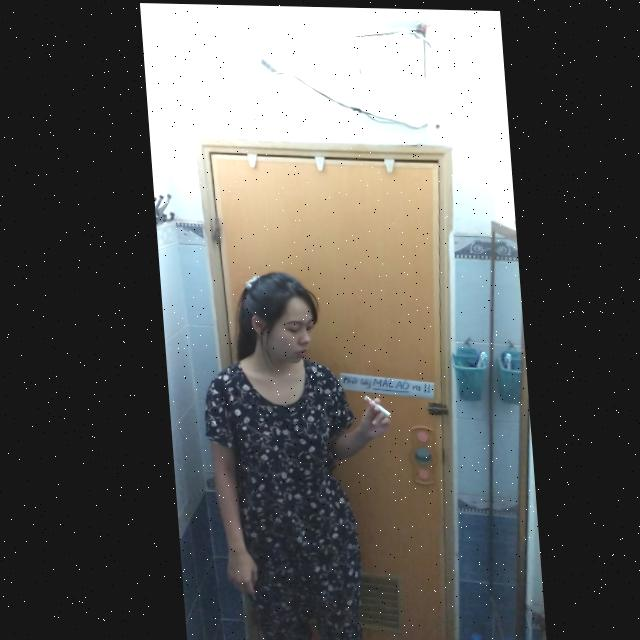cigarette: (358, 394, 385, 416)
